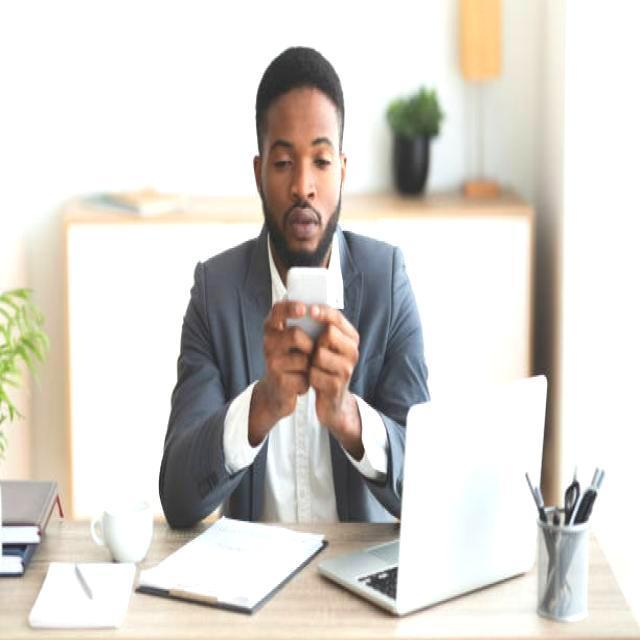Looking away: (266, 102, 340, 260)
